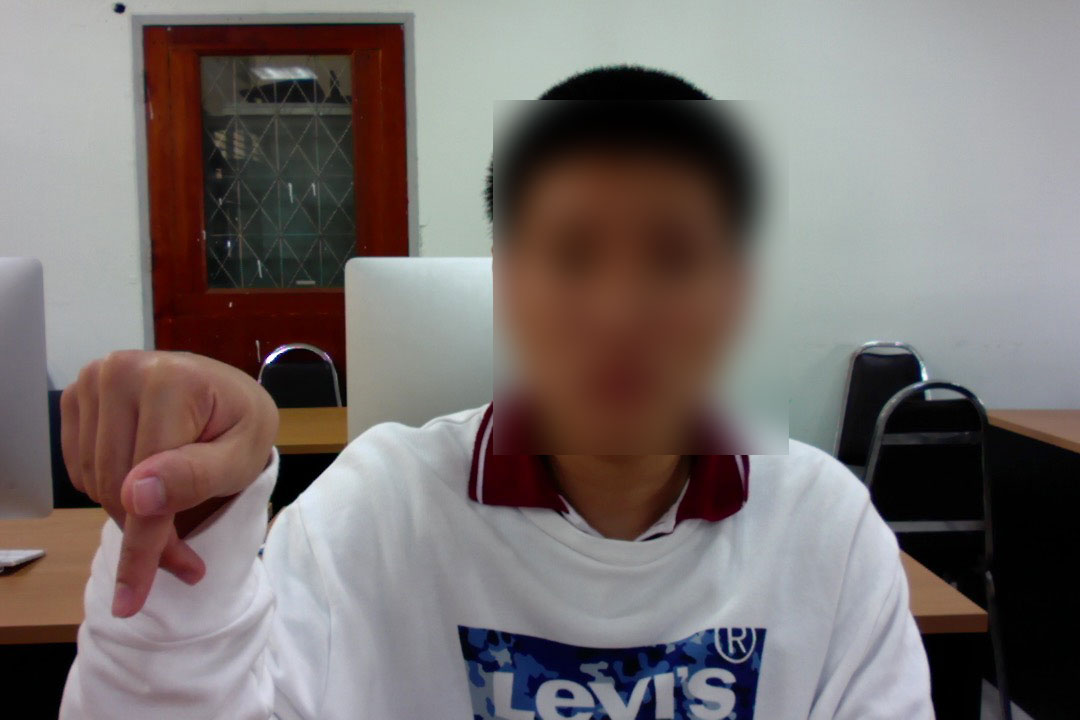por: (46, 347, 285, 625)
